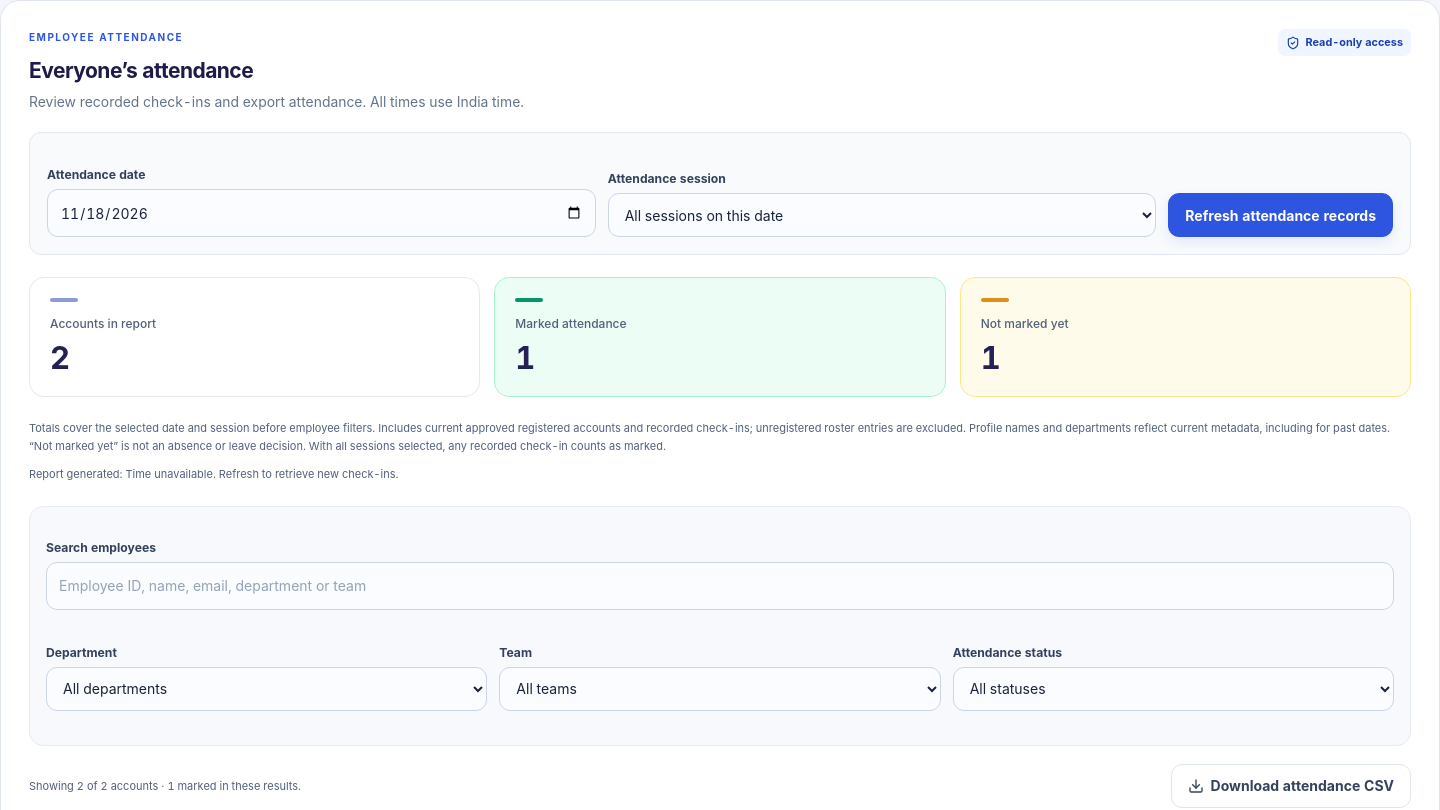
Test: revoked access clears previously displayed records and export
Click the button "Refresh attendance records": click(1281, 215) [1168,193,1393,237]
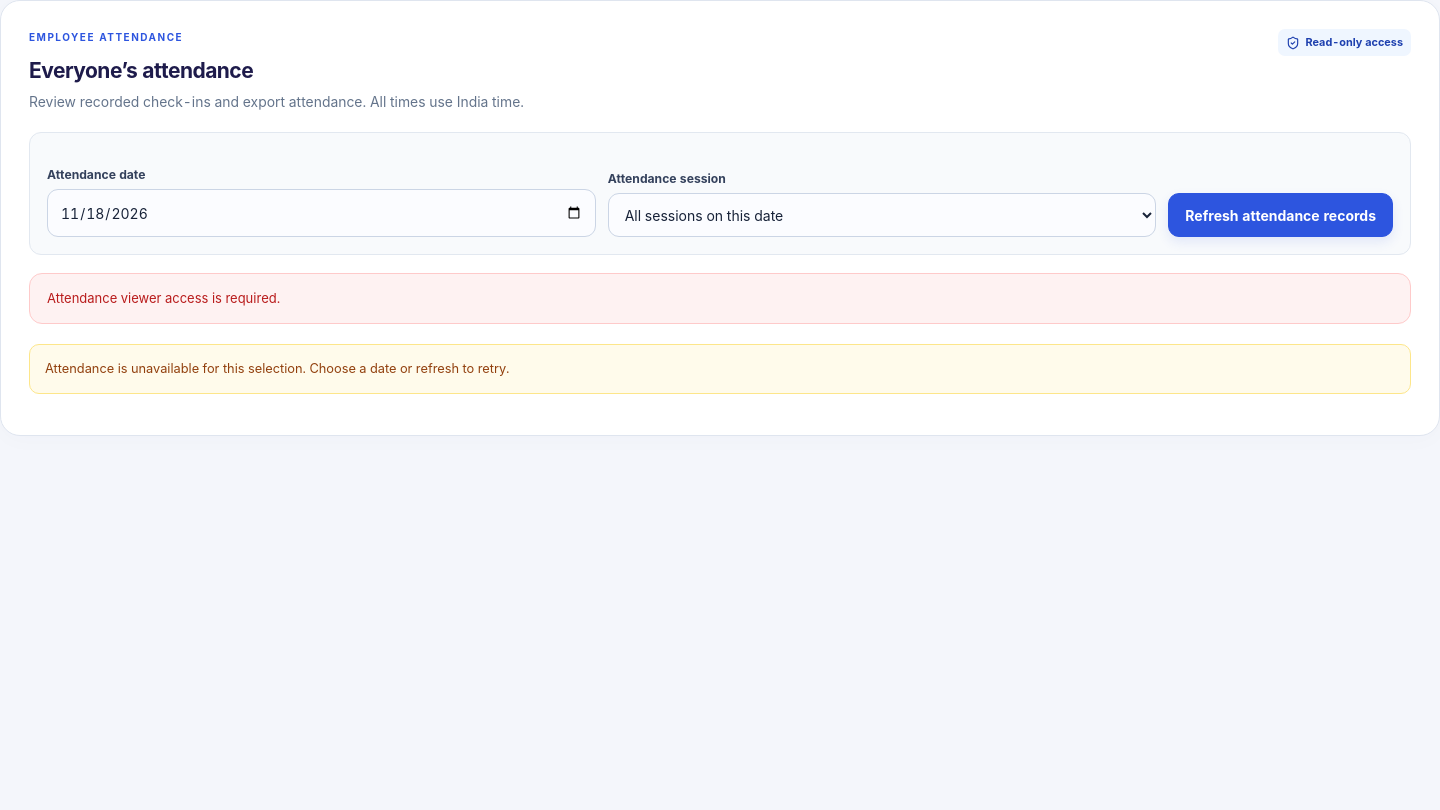
Check: the message reads "Attendance viewer access is required.", box [47,290,280,306]
Check: the button "Download attendance CSV" is gone
